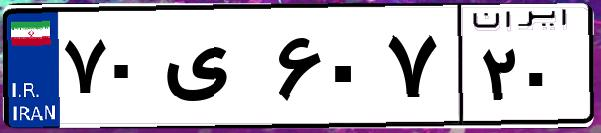0: (330, 28, 385, 110), (525, 38, 570, 115), (110, 28, 158, 98)
2: (475, 38, 525, 113)
6: (270, 28, 330, 110)
7: (385, 28, 445, 110), (57, 26, 110, 100)
ی: (158, 20, 270, 120)
